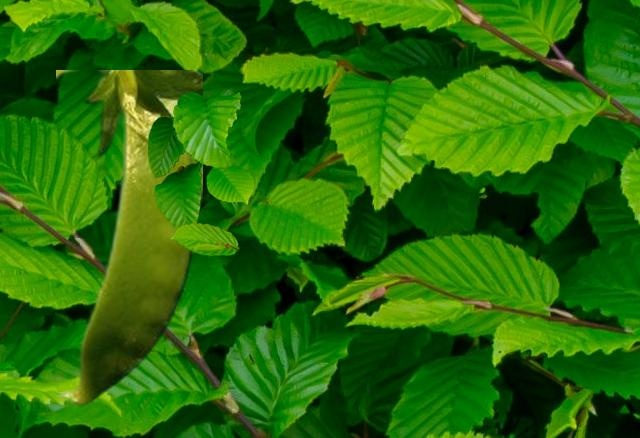pea: (56, 70, 201, 405)
